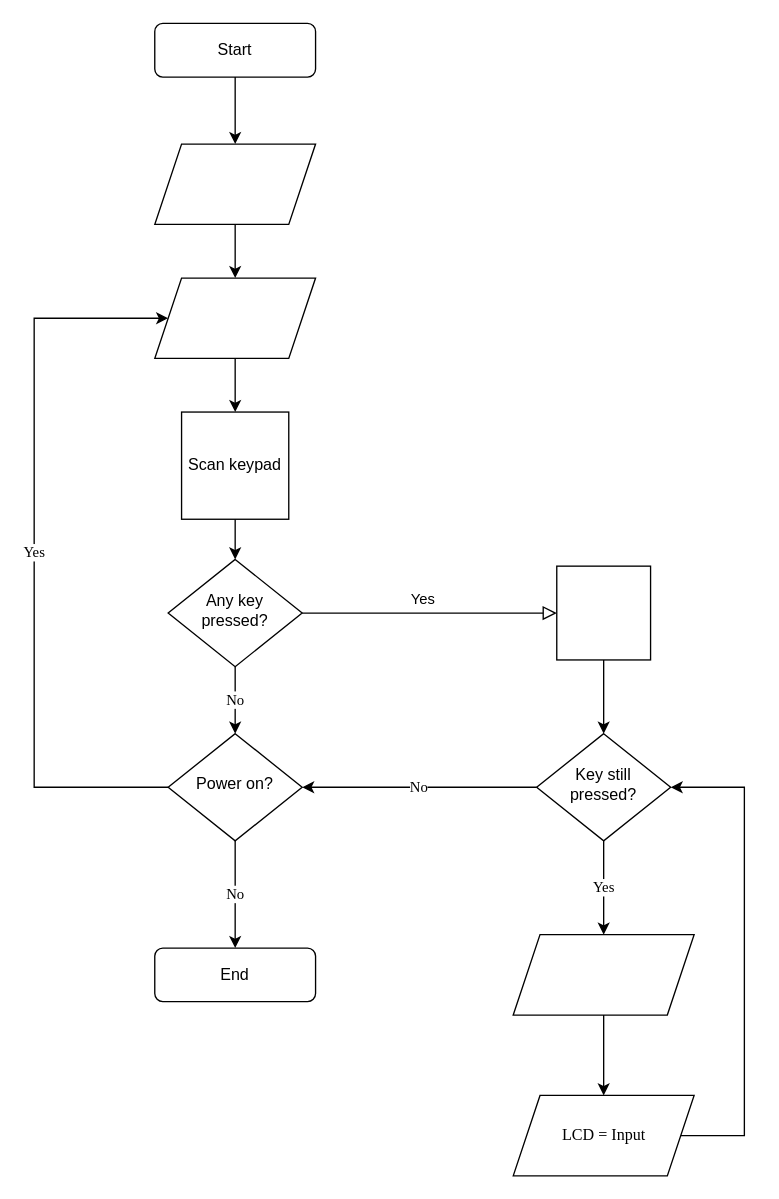
Image size: 779x1199. Some labels were removed from this diagram. The shapes that lost their labels are listed below. From the top down, each one's centre as x and y in pixels, then its label:
At [234,183]: "Initialize LCD Initialize Keypad".
At [234,317]: "Direction = None LCD is Empty".
At [603,612]: "Wait for 0.1 seconds".
At [603,974]: "Input = KeyPressed".
